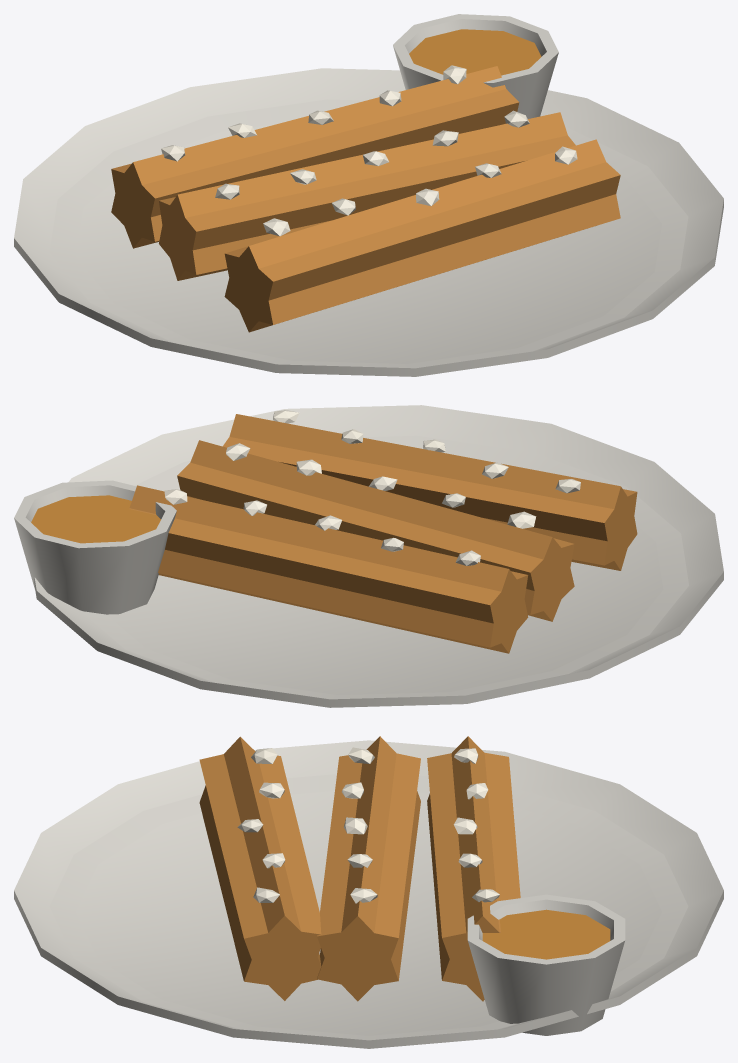
Rendered from churros_prato.glb.
3 views of the same model, one above another, from view 1: azimuth 30°, elevation 25°; view 2: azimuth 150°, elevation 25°; view 3: azimuth 270°, elevation 25° (orthographic).
Parts seen in each view (by area): view 1: churros_prato; view 2: churros_prato; view 3: churros_prato.
Part boxes in pixels (left/top/right/bottom): churros_prato: left=14, top=14, right=723, bottom=376; churros_prato: left=14, top=405, right=723, bottom=707; churros_prato: left=14, top=736, right=723, bottom=1048.
Size of the model in its own units: 0.3 by 0.0574 by 0.3.
